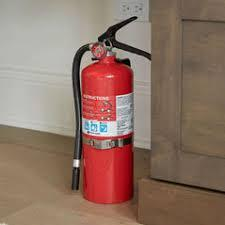floor-kept: (44, 9, 158, 213)
